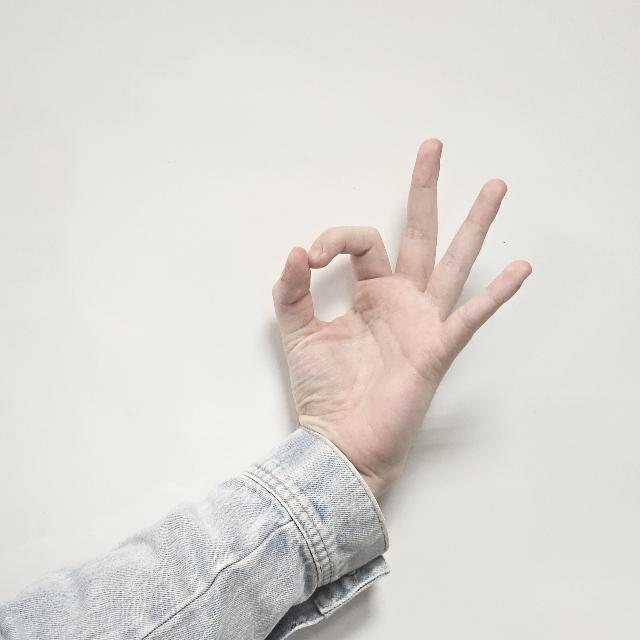Bolinha: (270, 130, 532, 478)
